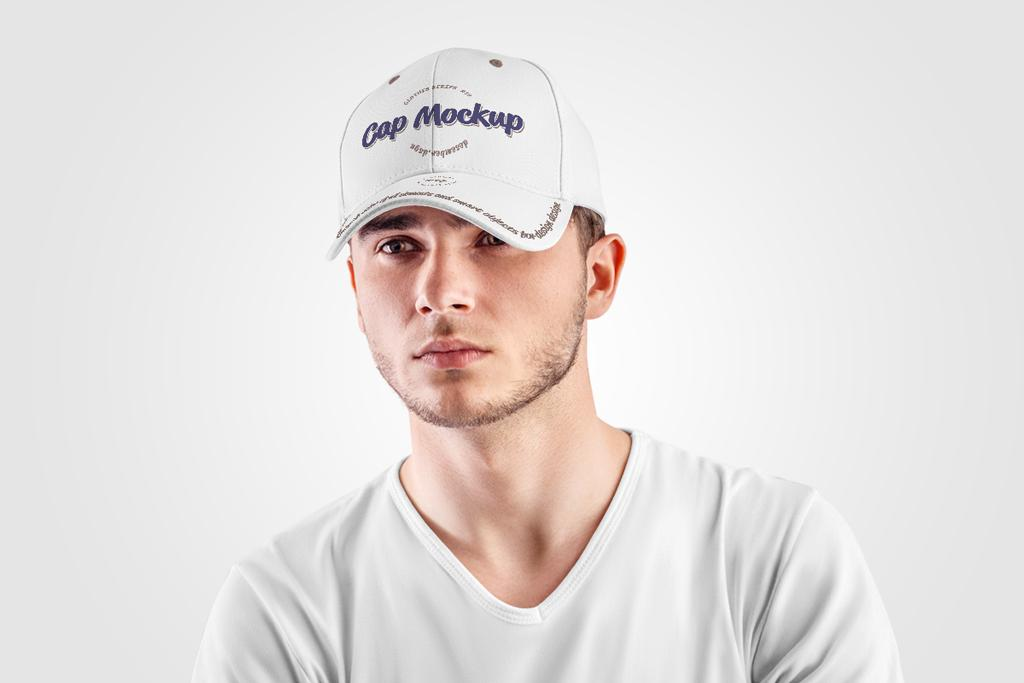cap: (318, 34, 576, 262)
